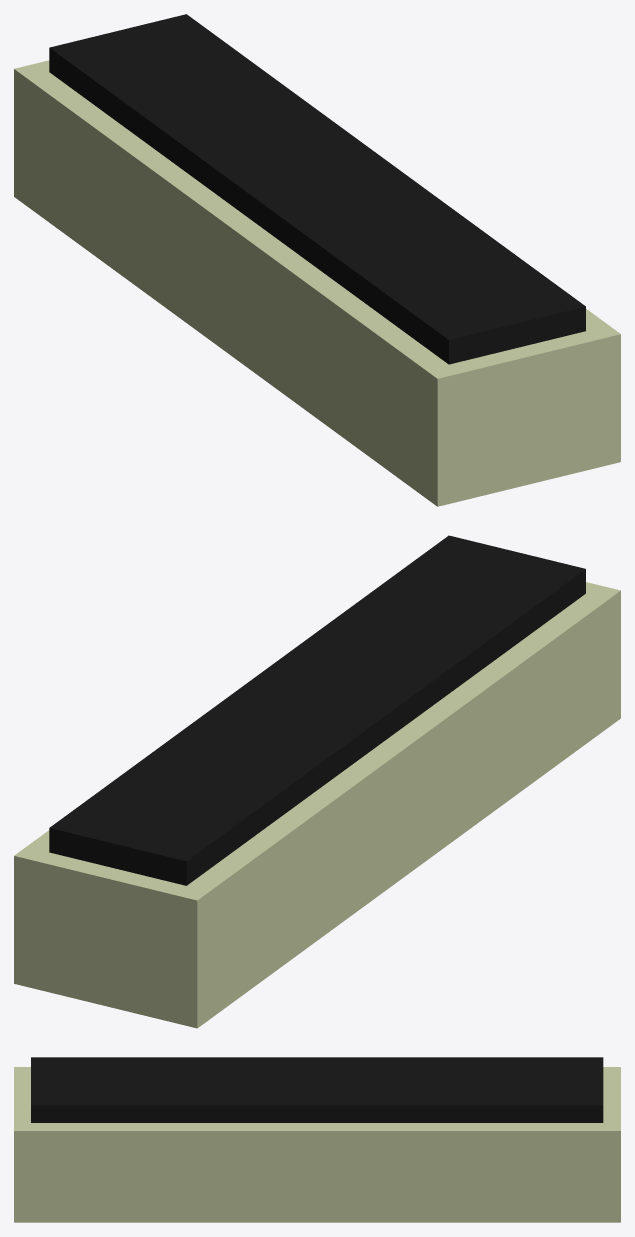
The model's file is lamp.fbx.
3 renders of one model, top to bottom at view 1: azimuth 30°, elevation 25°; view 2: azimuth 150°, elevation 25°; view 3: azimuth 270°, elevation 25°, orthographic. The views are drawn at different scales.
Visible parts, largest first — view 1: Cube; view 2: Cube; view 3: Cube.
Boxes of the visible parts, box(x1,y1,x2,y2) form: Cube: box(14, 14, 620, 506); Cube: box(14, 535, 620, 1028); Cube: box(14, 1057, 620, 1222).
Size of the model in its own units: 60 by 47.69 by 240.
